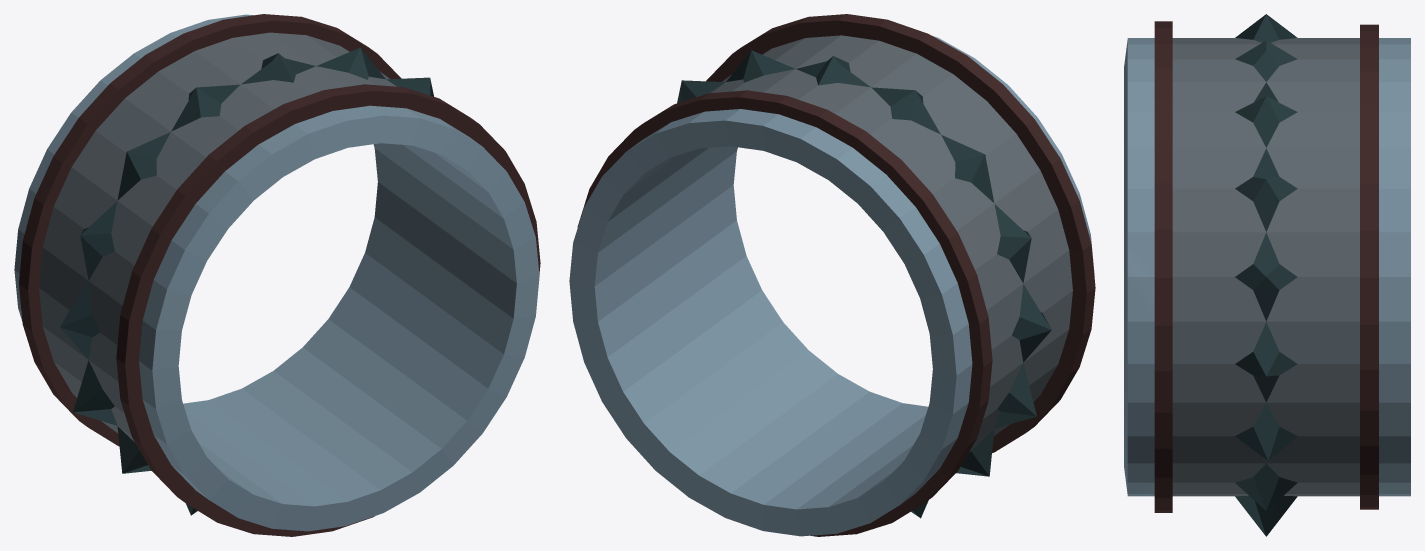
Rendered from anillo de guerrero .fbx.
The picture shows the model from 3 angles, left to right: view 1: azimuth 30°, elevation 25°; view 2: azimuth 150°, elevation 25°; view 3: azimuth 270°, elevation 25°; orthographic projection. The views are drawn at different scales.
Parts seen in each view (by area): view 1: Circle.001; view 2: Circle.001; view 3: Circle.001.
Part boxes in pixels (box(x1,y1,x2,y2)): Circle.001: box(14, 14, 540, 536); Circle.001: box(569, 14, 1095, 536); Circle.001: box(1124, 14, 1410, 536).
Size of the model in its own units: 7.46 by 7.49 by 4.13.
